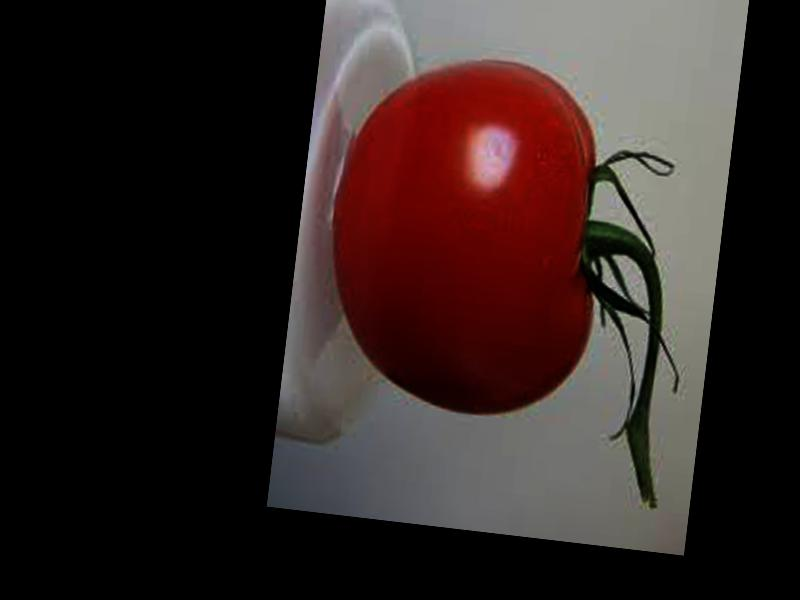Tomato: (313, 44, 620, 427)
